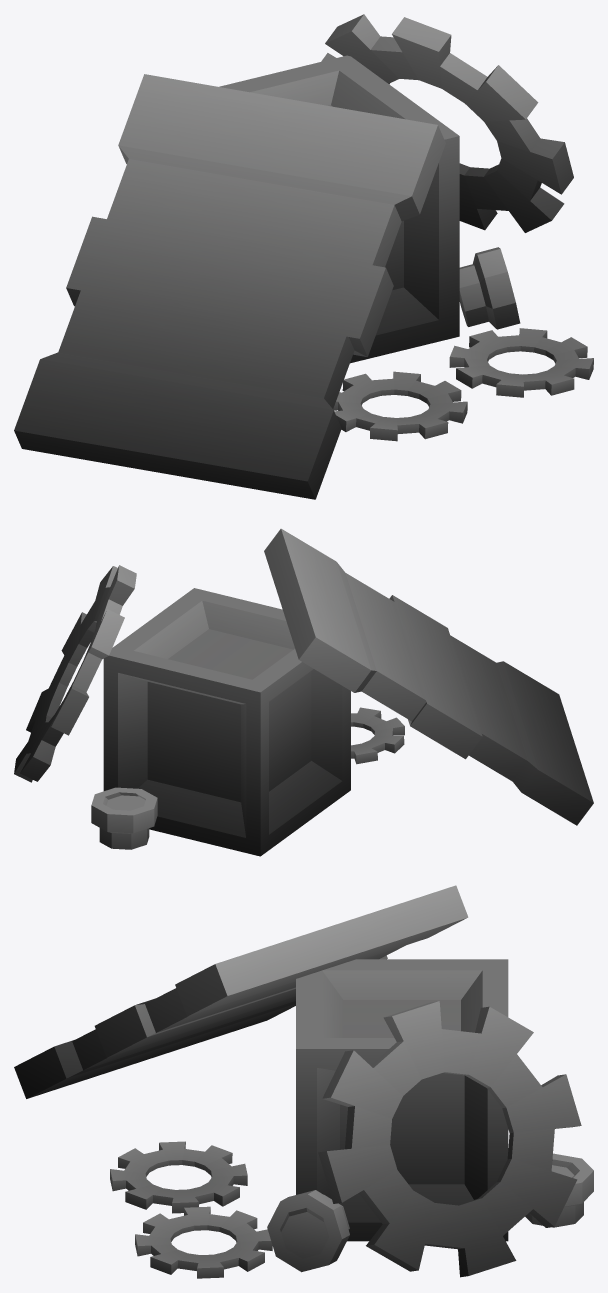
The model's file is SM_Env_Foliage_Space_Junk.fbx.
The picture shows the model from 3 angles, top to bottom: view 1: azimuth 30°, elevation 25°; view 2: azimuth 150°, elevation 25°; view 3: azimuth 270°, elevation 25°; orthographic projection. The views are drawn at different scales.
Parts seen in each view (by area): view 1: Space Junk; view 2: Space Junk; view 3: Space Junk.
Part boxes in pixels (x1=…): Space Junk: x1=14, y1=14, x2=593, y2=499; Space Junk: x1=14, y1=528, x2=593, y2=856; Space Junk: x1=14, y1=885, x2=593, y2=1278.
Size of the model in its own units: 241 by 100 by 206.
Materials: 1 (1 with a texture image).
